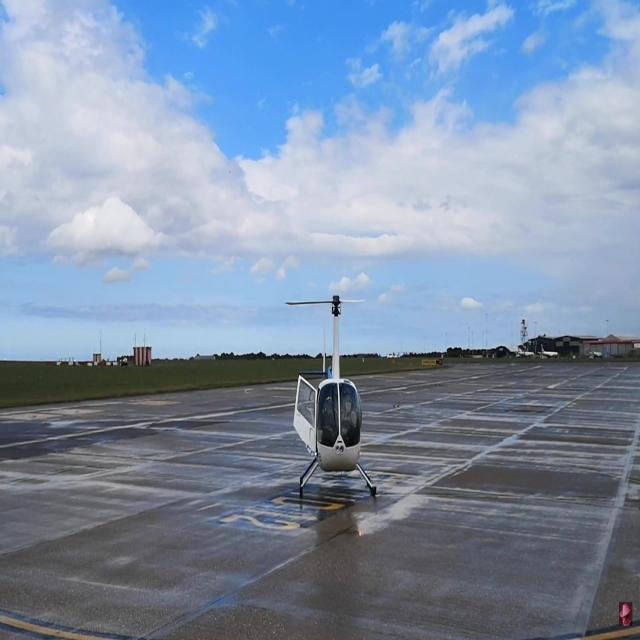CIV_HELO: (290, 295, 379, 497)
